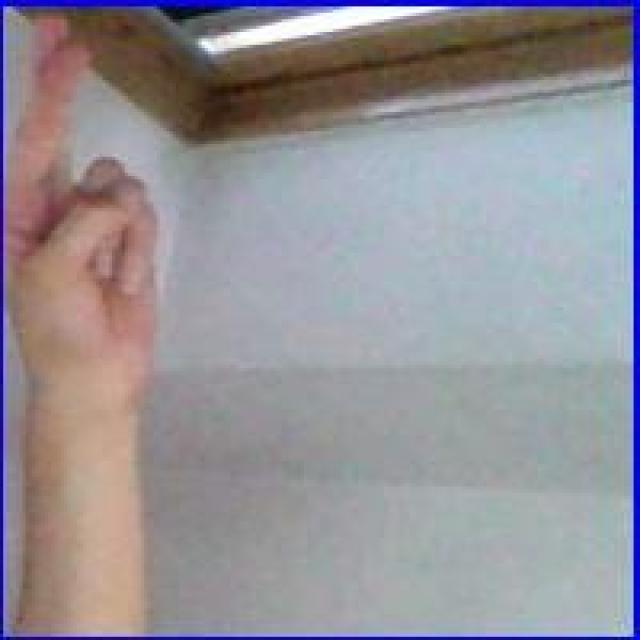R: (7, 8, 166, 414)
